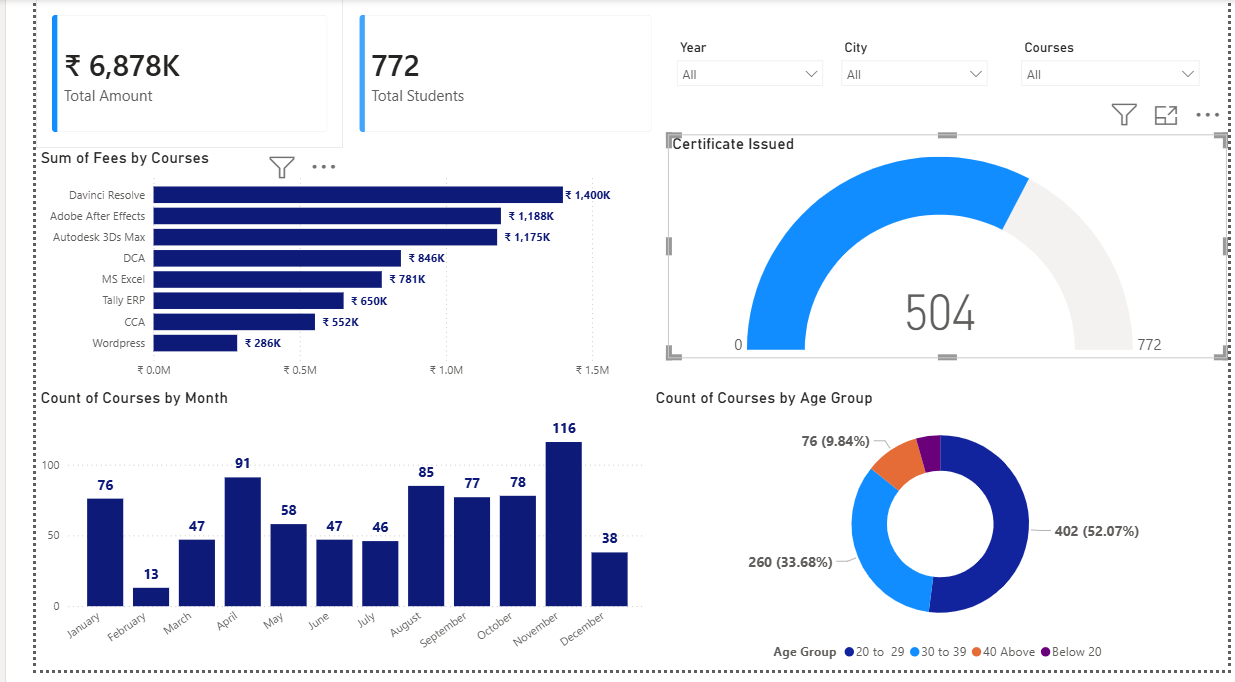

This screenshot's page, from the dashboard's own definition file:
{"tool":"powerbi","page":{"name":"Page 1","canvas":[1280,720],"ordinal":0},"visuals":[{"type":"clusteredColumnChart","fields":{"Category":["Student Course Details.Date Of join.Variation.Date Hierarchy.Year","Student Course Details.Date Of join.Variation.Date Hierarchy.Quarter","Student Course Details.Date Of join.Variation.Date Hierarchy.Month","Student Course Details.Date Of join.Variation.Date Hierarchy.Day"],"Y":["CountNonNull(Student Course Details.Courses)"]},"box":[0,417.6,660.3,302.1],"z":0},{"type":"donutChart","fields":{"Y":["CountNonNull(Student Course Details.Courses)"],"Category":["Student Course Details.Age Group"]},"box":[660.3,417.6,620.7,302.1],"z":1000},{"type":"clusteredBarChart","fields":{"Category":["Student Course Details.Courses"],"Y":["Sum(Student Course Details.Fees)"]},"box":[0,160.1,640.5,257.5],"z":2000},{"type":"cardVisual","fields":{"Data":["CountNonNull(Student Course Details.Student Name)"]},"box":[330.1,0,348.3,160.1],"z":3000},{"type":"cardVisual","title":"Total Amount","fields":{"Data":["Sum(Student Course Details.Fees)"]},"box":[0,0,330.1,160.1],"z":4000},{"type":"gauge","title":"Certificate Issued","fields":{"Y":["Personal Details.CountYes"]},"box":[678.4,145.3,600.8,241],"z":5000},{"type":"slicer","fields":{"Values":["Student Course Details.Date Of join.Variation.Date Hierarchy.Year"]},"box":[678.4,38,176.6,59.4],"z":6000},{"type":"slicer","fields":{"Values":["Personal Details.City"]},"box":[855,38,176.6,59.4],"z":7000},{"type":"slicer","fields":{"Values":["Student Course Details.Courses"]},"box":[1048.2,38,211.3,59.4],"z":8000}]}

Visuals, with their boxes in screenshot pixels (x1, y1, x2, y2), scaled from the page's 1280x720 canvas onto the 1235x682 screenshot:
clusteredColumnChart - Student Course Details.Date Of join.Variation.Date Hierarchy.Year x Student Course Details.Date Of join.Variation.Date Hierarchy.Quarter: left=0, top=396, right=637, bottom=681
donutChart - CountNonNull(Student Course Details.Courses) x Student Course Details.Age Group: left=637, top=396, right=1234, bottom=681
clusteredBarChart - Student Course Details.Courses x Sum(Student Course Details.Fees): left=0, top=152, right=618, bottom=396
cardVisual - CountNonNull(Student Course Details.Student Name): left=318, top=0, right=655, bottom=152
"Total Amount" cardVisual: left=0, top=0, right=318, bottom=152
"Certificate Issued" gauge: left=655, top=138, right=1234, bottom=366
slicer - Student Course Details.Date Of join.Variation.Date Hierarchy.Year: left=655, top=36, right=825, bottom=92
slicer - Personal Details.City: left=825, top=36, right=995, bottom=92
slicer - Student Course Details.Courses: left=1011, top=36, right=1215, bottom=92
